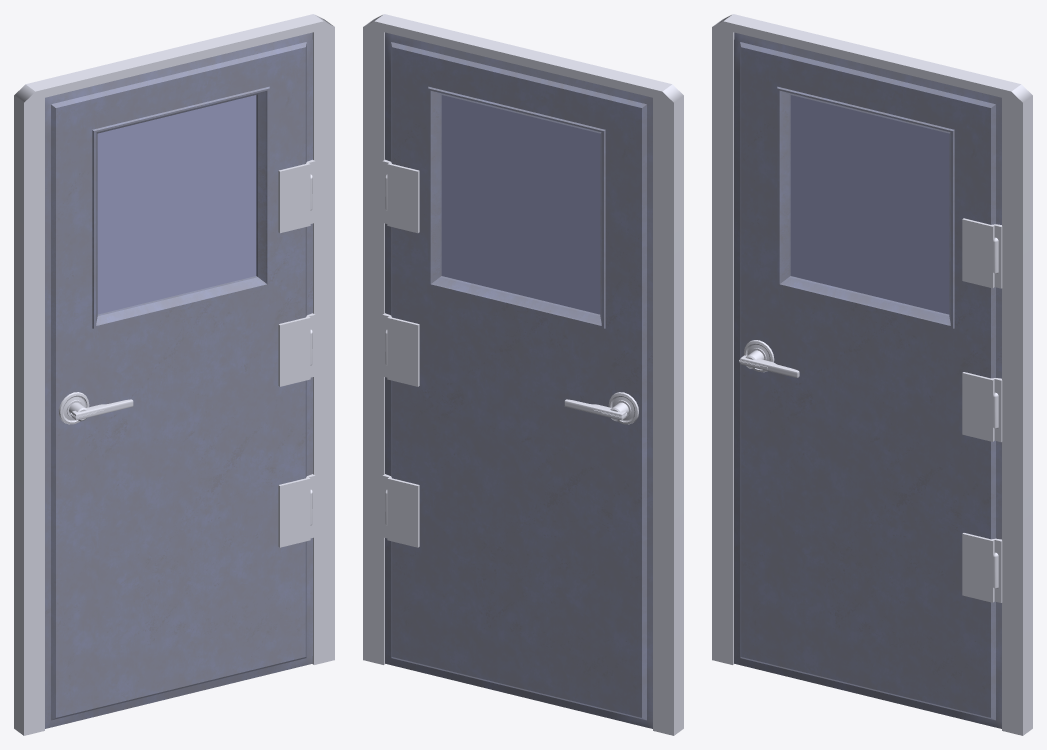
File: control_door_v4.fbx
3 renders of one model, left to right at view 1: azimuth 30°, elevation 25°; view 2: azimuth 150°, elevation 25°; view 3: azimuth 330°, elevation 25°, orthographic.
Parts seen in each view (by area): view 1: pCube22, pCube30, pCube28, pSphere1, pCube29, pCylinder24; view 2: pCube22, pCube30, pCube28, pSphere1, pCube29, pCylinder24; view 3: pCube22, pCube30, pCube28, pSphere1, pCube29.
Part boxes in pixels (x1,y1,x2,y2): pCube22: (45,32,312,728); pCube30: (14,14,334,735); pCube28: (97,95,256,314); pSphere1: (278,159,315,547); pCube29: (70,399,133,420); pCylinder24: (59,392,89,424); pCube22: (385,32,652,728); pCube30: (363,14,683,735); pCube28: (441,95,600,314); pSphere1: (382,159,419,547); pCube29: (564,399,627,420); pCylinder24: (608,392,638,424); pCube22: (734,32,1001,728); pCube30: (712,14,1032,735); pCube28: (790,95,949,314); pSphere1: (962,218,1002,602); pCube29: (739,355,799,377).
Bounding box in the file's own units: 113 × 222 × 22.28.
